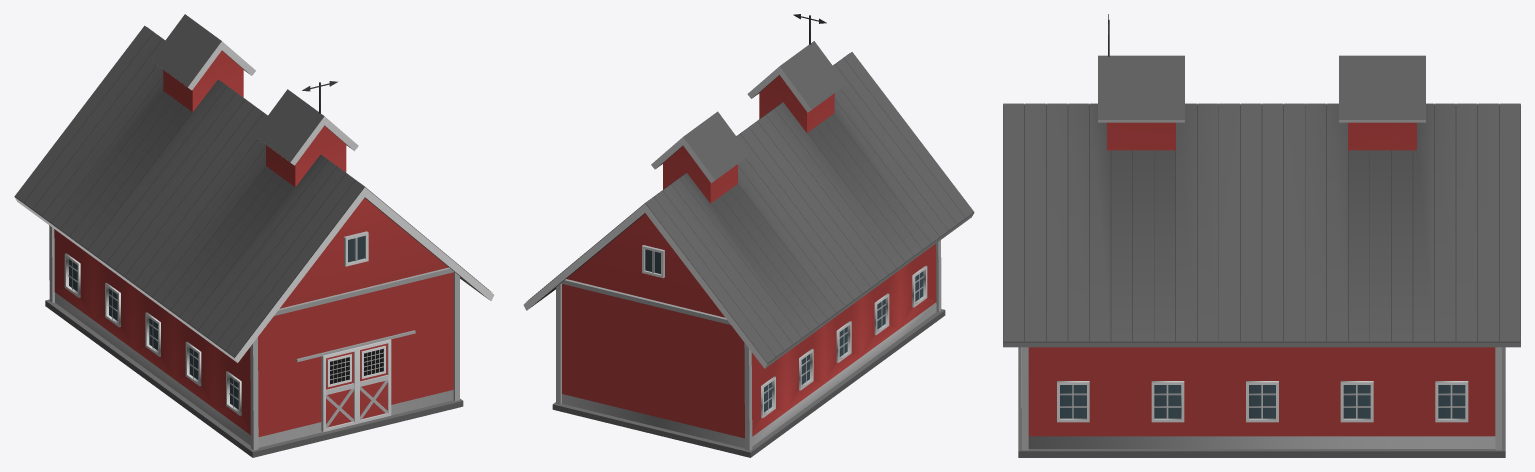
Rendered from hangar_005.glb.
3 views of the same model, side by side, from view 1: azimuth 30°, elevation 25°; view 2: azimuth 150°, elevation 25°; view 3: azimuth 270°, elevation 25° (orthographic). The views are drawn at different scales.
Parts seen in each view (by area): view 1: hangar_005; view 2: hangar_005; view 3: hangar_005.
Part boxes in pixels (left/top/right/bottom): hangar_005: left=14, top=14, right=494, bottom=457; hangar_005: left=523, top=14, right=974, bottom=457; hangar_005: left=1003, top=14, right=1520, bottom=457.
Bounding box in the file's own units: 11.43 × 13.51 × 16.78.
Materials: 1 (1 with a texture image).
